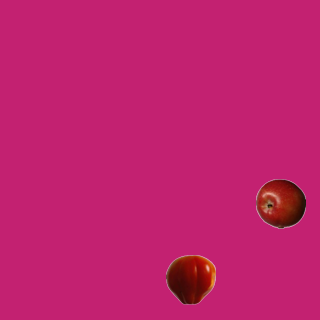Apple Braeburn: (255, 178, 305, 228)
Tomato 1: (165, 254, 215, 304)
